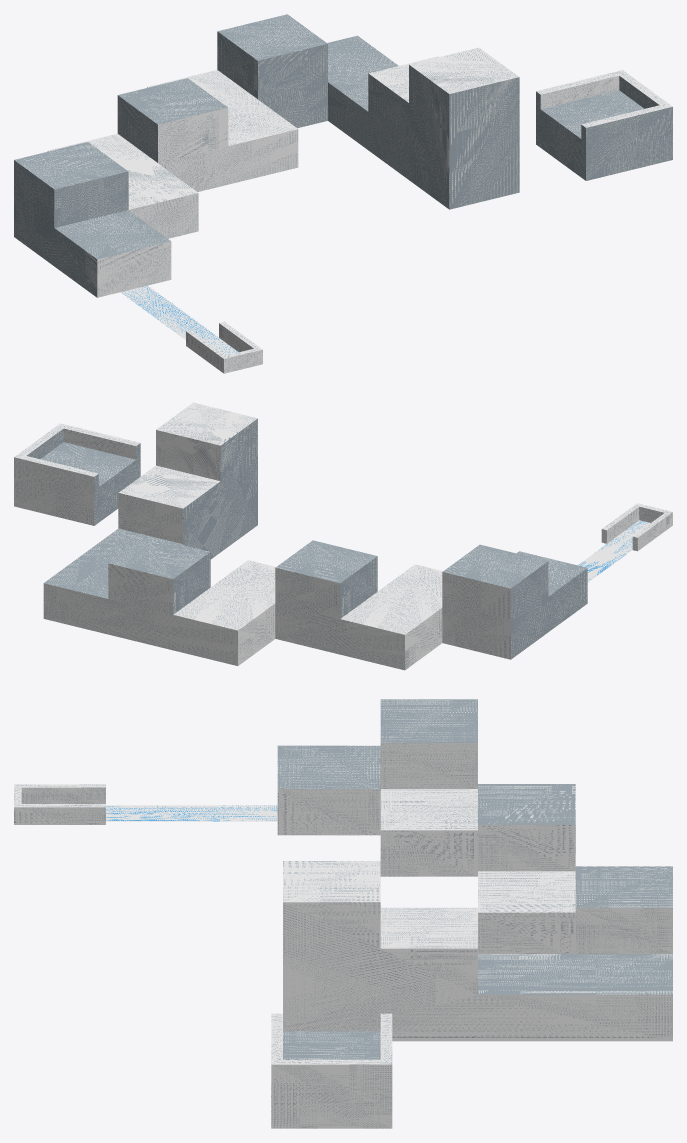
File: RLevel 4.fbx
The picture shows the model from 3 angles, top to bottom: view 1: azimuth 30°, elevation 25°; view 2: azimuth 150°, elevation 25°; view 3: azimuth 270°, elevation 25°; orthographic projection. The views are drawn at different scales.
Visible parts, largest first — view 1: Model; view 2: Model; view 3: Model.
Boxes of the visible parts, x1,y1,x2,y2 form: Model: (14,14,672,373); Model: (14,402,672,670); Model: (14,699,672,1128).
Bounding box in the file's own units: 204 × 39.37 × 169.
